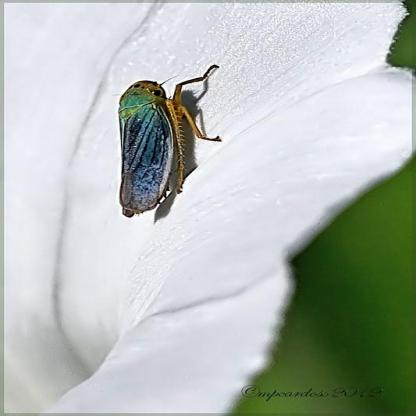Green-Leafhopper: (112, 60, 222, 218)
